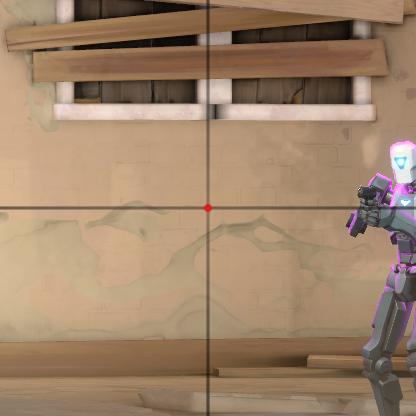enemyBody: (370, 190, 416, 265)
enemyHead: (386, 140, 416, 189)
